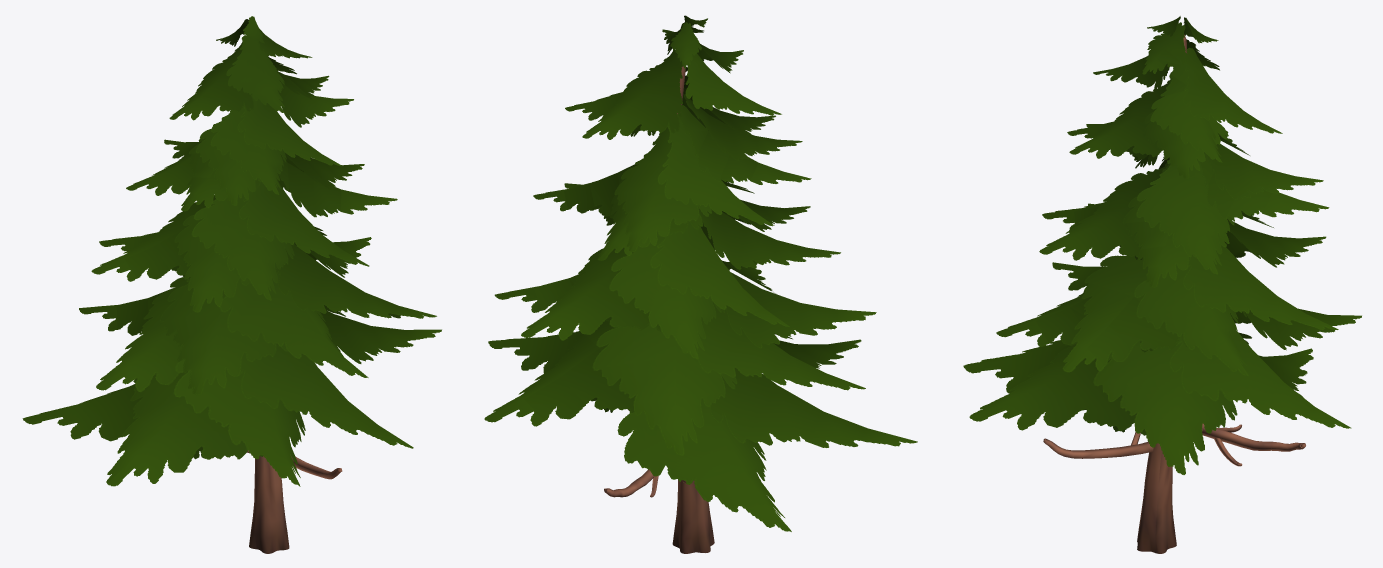
Rendered from kiefer_a.glb.
3 renders of one model, left to right at view 1: azimuth 30°, elevation 25°; view 2: azimuth 150°, elevation 25°; view 3: azimuth 270°, elevation 25°, orthographic. The views are drawn at different scales.
Parts seen in each view (by area): view 1: baum; view 2: baum; view 3: baum.
Part boxes in pixels (<box>): baum: <box>22,16,441,553</box>; baum: <box>484,15,917,553</box>; baum: <box>963,16,1361,553</box>.
Size of the model in its own units: 5.73 by 7.38 by 5.22.
2 materials, 1 textured.
